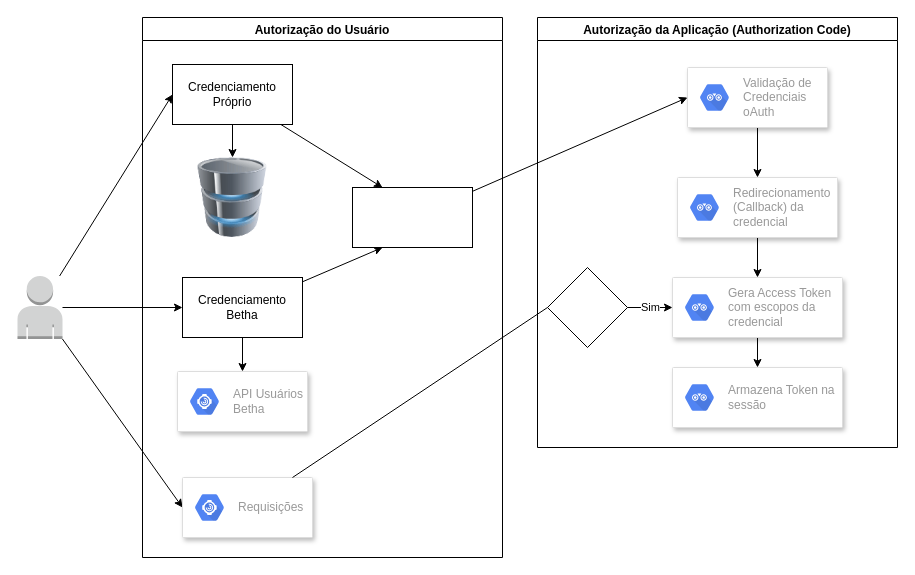
This 915x575 diagram has some shape labels left out. Here are the shapes that lost their labels. From the top down, the centre of each, then its label:
point (412, 217): Concede Autorização ao usuário
point (587, 307): Token expirado?
